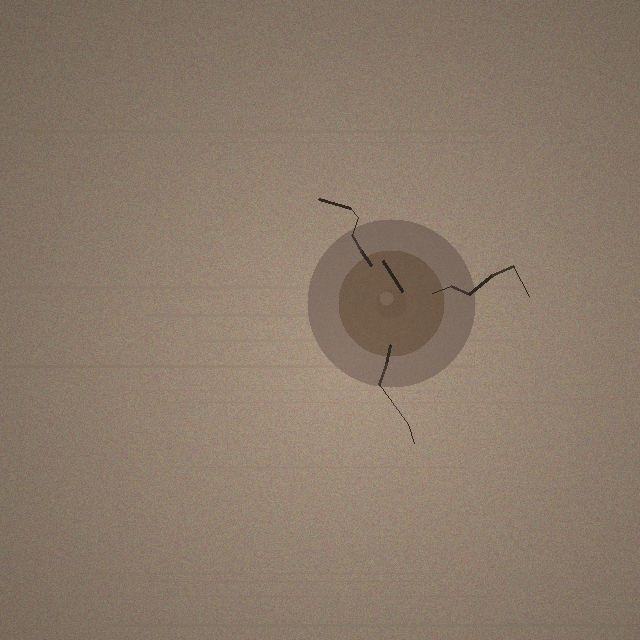crack: (307, 219, 475, 387)
